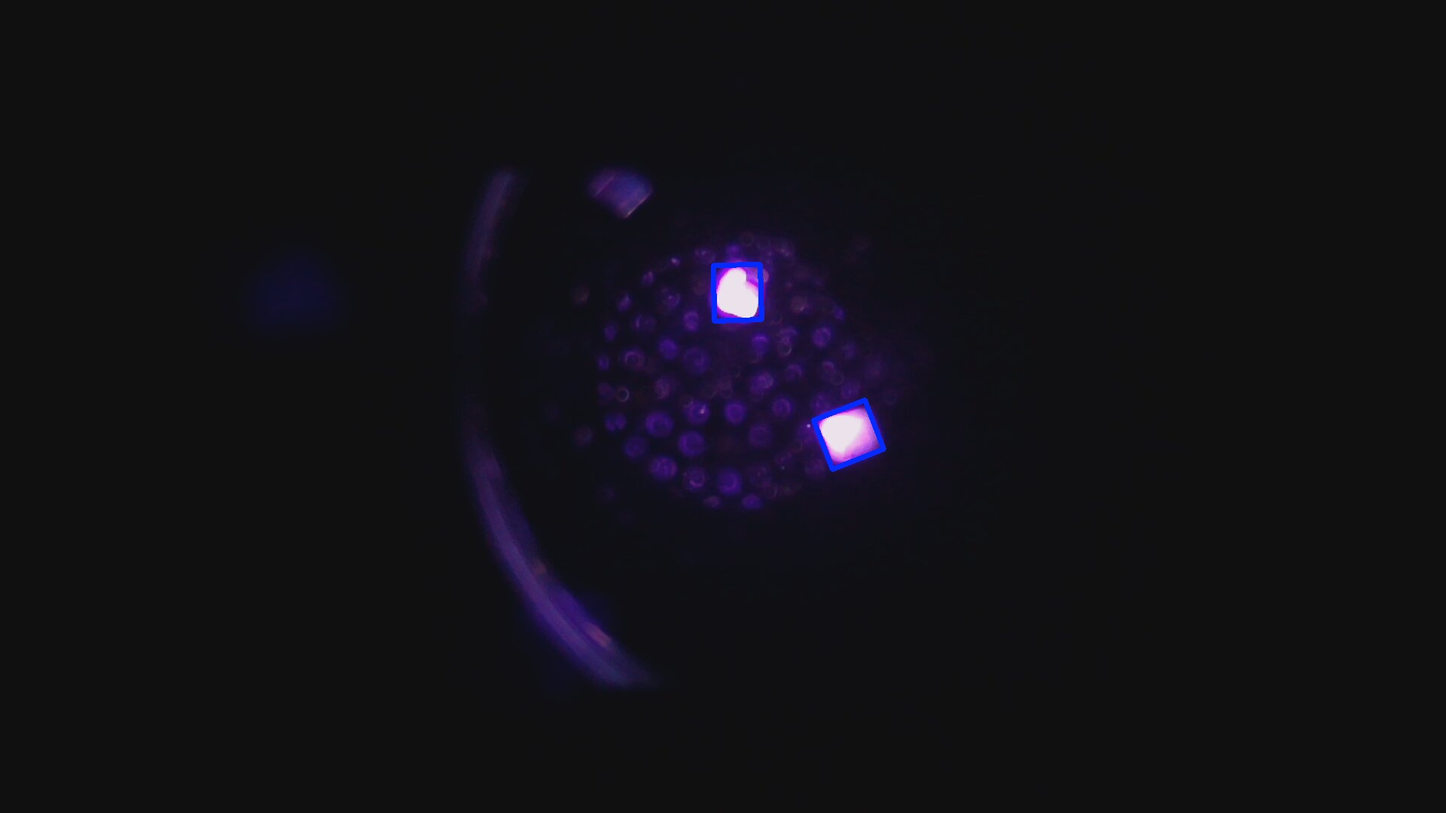plastic: (813, 400, 884, 469), (713, 264, 762, 321)
